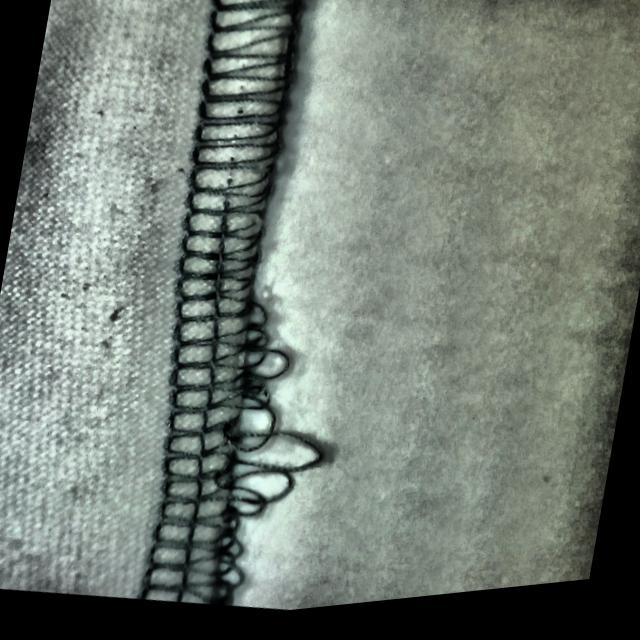Stitch: (122, 282, 351, 630)
